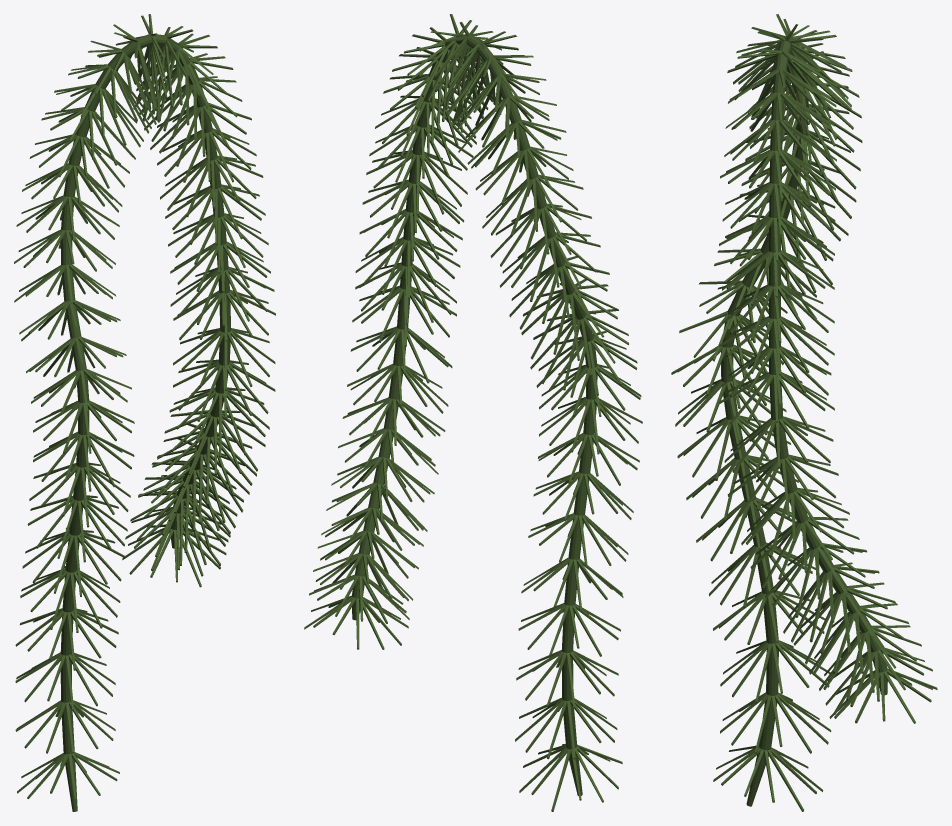
Rendered from glewiki.fbx.
3 views of the same model, side by side, from view 1: azimuth 30°, elevation 25°; view 2: azimuth 150°, elevation 25°; view 3: azimuth 270°, elevation 25° (orthographic). The views are drawn at different scales.
Parts seen in each view (by area): view 1: BezierCurve; view 2: BezierCurve; view 3: BezierCurve.
Boxes of the visible parts, x1,y1,x2,y2 form: BezierCurve: (14,14,275,811); BezierCurve: (304,14,642,811); BezierCurve: (671,14,937,811).
Size of the model in its own units: 156 by 444 by 129.
